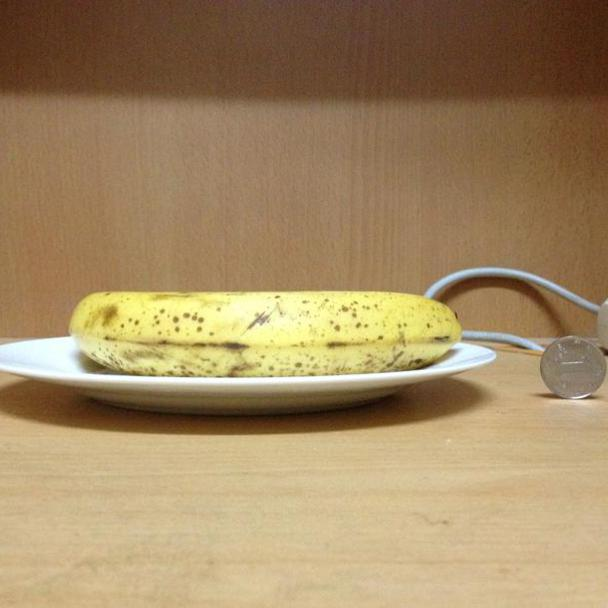banana: (68, 284, 466, 374)
